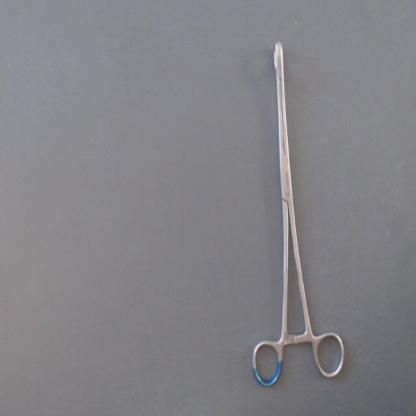Sponge Forceps: (246, 33, 353, 394)
